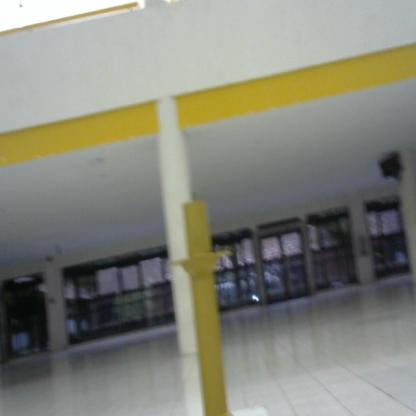pole: (164, 194, 246, 416)
